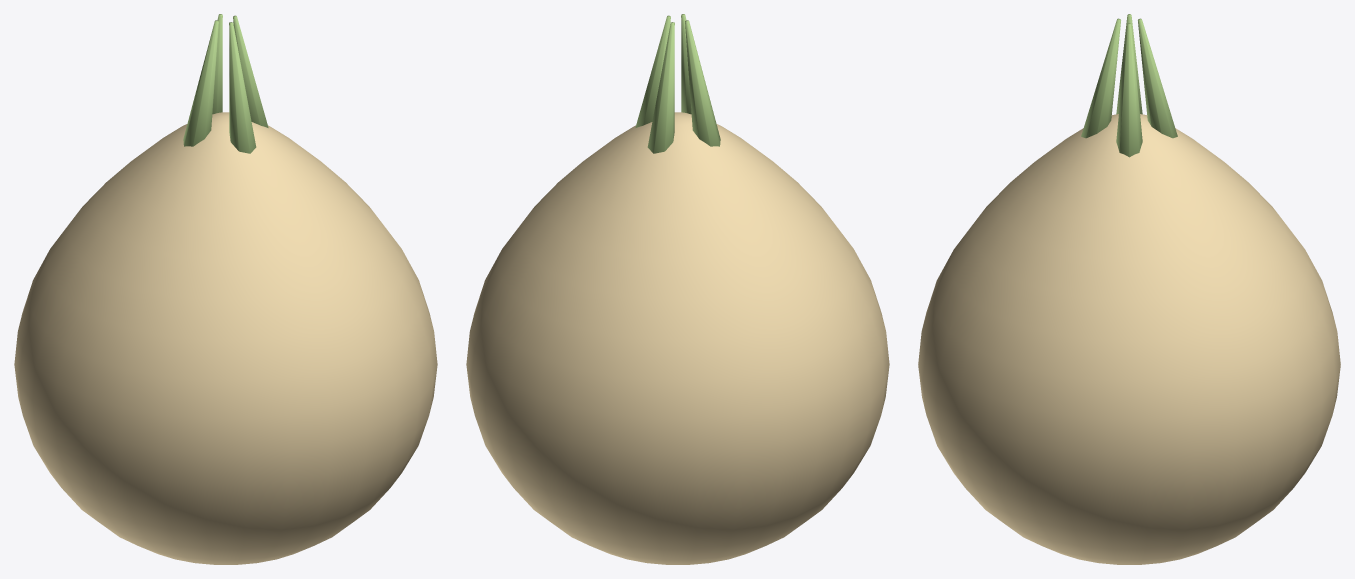
File: Onion.glb
3 renders of one model, left to right at view 1: azimuth 30°, elevation 25°; view 2: azimuth 150°, elevation 25°; view 3: azimuth 270°, elevation 25°, orthographic.
Parts seen in each view (by area): view 1: Onion; view 2: Onion; view 3: Onion.
Part boxes in pixels (bbox=[...]): Onion: bbox=[14, 14, 437, 564]; Onion: bbox=[466, 14, 889, 564]; Onion: bbox=[918, 14, 1340, 564].
Bounding box in the file's own units: 0.7911 × 1.09 × 0.7954.
